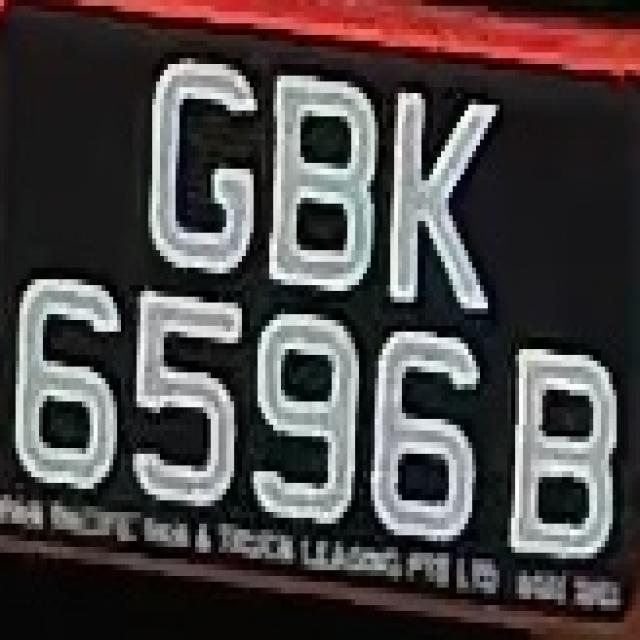5: (125, 245, 250, 530)
6: (359, 314, 480, 559), (16, 256, 132, 506)
9: (242, 291, 367, 529)
B: (504, 314, 620, 599), (266, 64, 378, 308)
G: (128, 47, 254, 279)
K: (391, 82, 504, 314)
